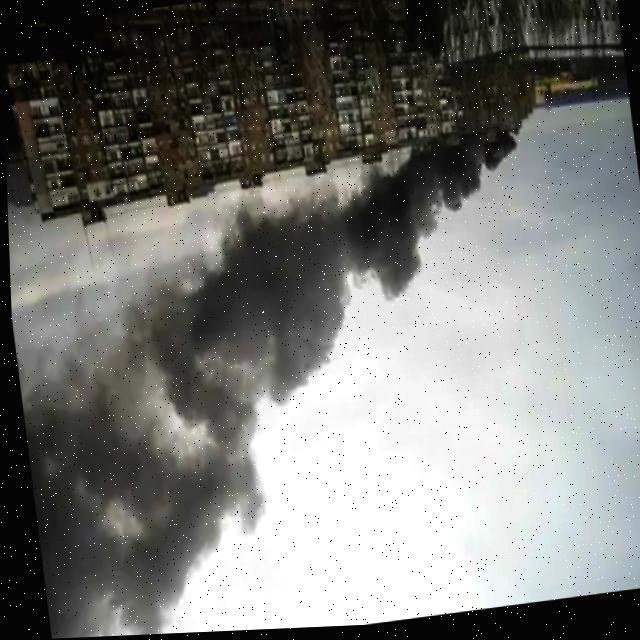Smoke: (154, 134, 540, 405)
